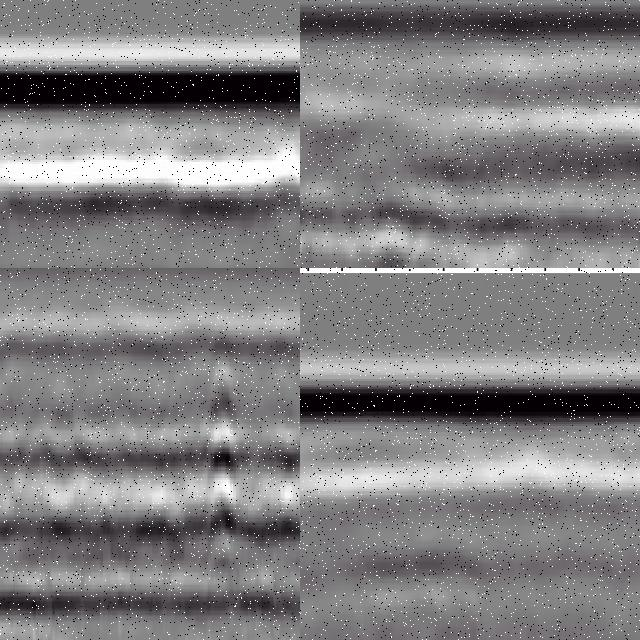crack: (207, 320, 237, 602)
